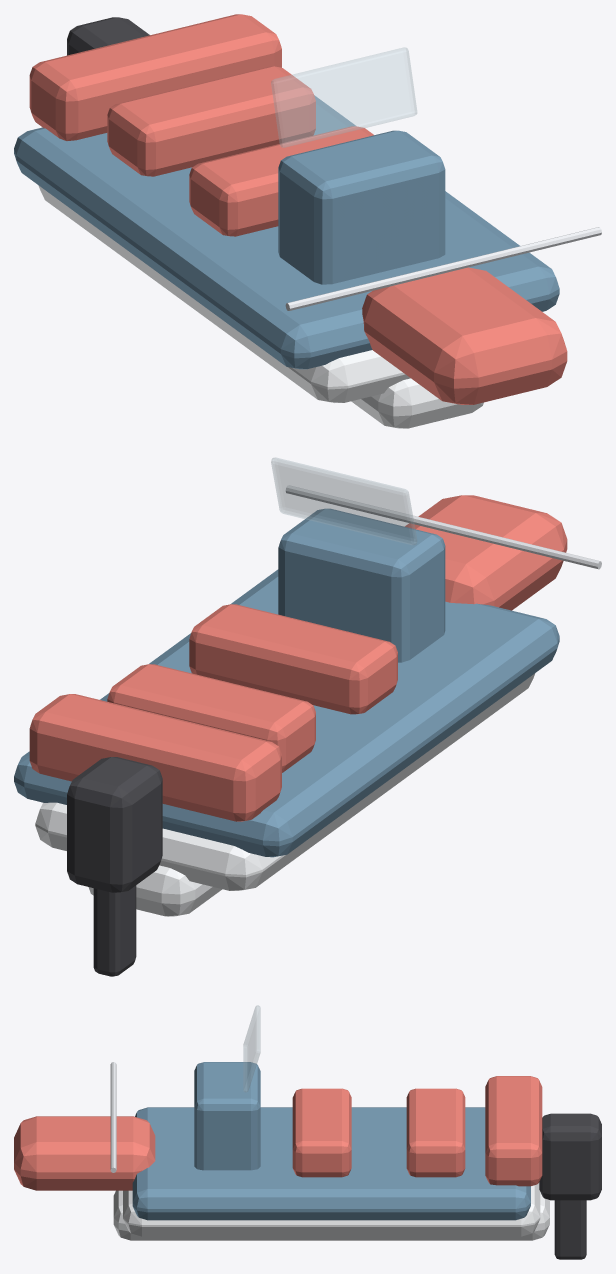
File: veh_boat.glb
3 views of the same model, one above another, from view 1: azimuth 30°, elevation 25°; view 2: azimuth 150°, elevation 25°; view 3: azimuth 270°, elevation 25° (orthographic). The views are drawn at different scales.
Visible parts, largest first — view 1: veh_boat_gunwale, veh_boat_console, veh_boat_bow, veh_boat_bench, veh_boat_seat1, veh_boat_windscreen, veh_boat_seat0, veh_boat_chine, veh_boat_keel, veh_boat_outboard, veh_boat_rail_l, veh_boat_rail_r; view 2: veh_boat_gunwale, veh_boat_console, veh_boat_bench, veh_boat_seat0, veh_boat_outboard, veh_boat_bow, veh_boat_seat1, veh_boat_chine, veh_boat_windscreen, veh_boat_outboard_leg, veh_boat_keel, veh_boat_rail_l (+1 smaller); view 3: veh_boat_gunwale, veh_boat_bow, veh_boat_chine, veh_boat_console, veh_boat_bench, veh_boat_seat0, veh_boat_seat1, veh_boat_outboard, veh_boat_keel, veh_boat_outboard_leg, veh_boat_windscreen, veh_boat_rail_r.
Boxes of the visible parts, x1,y1,x2,y2 form: veh_boat_gunwale: (14, 95, 559, 369); veh_boat_console: (278, 130, 445, 284); veh_boat_bow: (362, 267, 567, 404); veh_boat_bench: (29, 14, 281, 140); veh_boat_seat1: (107, 66, 315, 176); veh_boat_windscreen: (271, 47, 416, 147); veh_boat_seat0: (189, 126, 373, 236); veh_boat_chine: (38, 185, 410, 402); veh_boat_keel: (351, 378, 483, 428); veh_boat_outboard: (67, 17, 149, 55); veh_boat_rail_l: (285, 258, 478, 310); veh_boat_rail_r: (410, 227, 601, 278); veh_boat_gunwale: (14, 569, 559, 857); veh_boat_console: (278, 508, 445, 662); veh_boat_bench: (29, 694, 281, 821); veh_boat_seat0: (189, 604, 397, 714); veh_boat_outboard: (67, 757, 162, 892); veh_boat_bow: (405, 495, 567, 610); veh_boat_seat1: (107, 664, 315, 772); veh_boat_chine: (35, 673, 534, 890); veh_boat_windscreen: (271, 457, 416, 544); veh_boat_outboard_leg: (93, 885, 136, 976); veh_boat_keel: (88, 865, 222, 916); veh_boat_rail_l: (408, 515, 601, 569); veh_boat_gunwale: (132, 1107, 530, 1220); veh_boat_bow: (14, 1116, 155, 1190); veh_boat_chine: (123, 1182, 540, 1236); veh_boat_console: (194, 1062, 260, 1170); veh_boat_bench: (485, 1076, 542, 1186); veh_boat_seat0: (292, 1088, 351, 1177); veh_boat_seat1: (406, 1088, 465, 1177); veh_boat_outboard: (539, 1113, 601, 1200); veh_boat_keel: (113, 1190, 549, 1240); veh_boat_outboard_leg: (554, 1200, 586, 1259); veh_boat_windscreen: (243, 1005, 260, 1092); veh_boat_rail_r: (110, 1103, 116, 1172).
Size of the model in its own units: 2.64 by 2.68 by 6.2.
